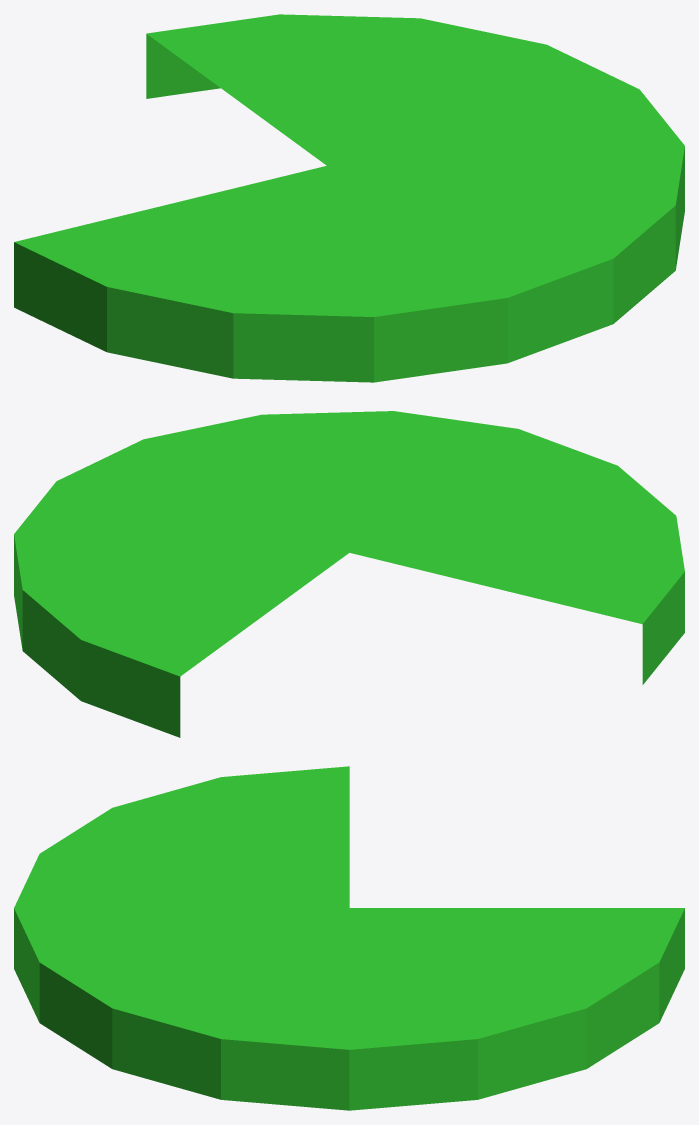
File: DoorHealth75%.fbx
3 views of the same model, one above another, from view 1: azimuth 30°, elevation 25°; view 2: azimuth 150°, elevation 25°; view 3: azimuth 270°, elevation 25° (orthographic). The views are drawn at different scales.
Visible parts, largest first — view 1: DoorHealthIndicator75%; view 2: DoorHealthIndicator75%; view 3: DoorHealthIndicator75%.
Part boxes in pixels (x1=…): DoorHealthIndicator75%: x1=14, y1=14, x2=684, y2=382; DoorHealthIndicator75%: x1=14, y1=411, x2=684, y2=737; DoorHealthIndicator75%: x1=14, y1=766, x2=684, y2=1110.
Bounding box in the file's own units: 200 × 20 × 200.
